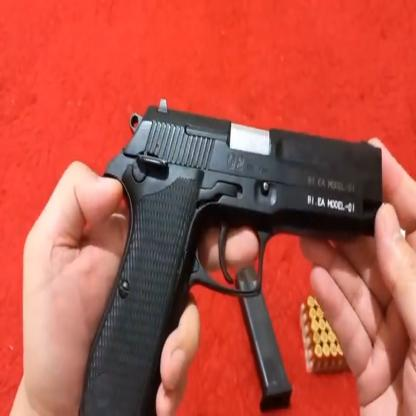handgun: (74, 98, 394, 416)
